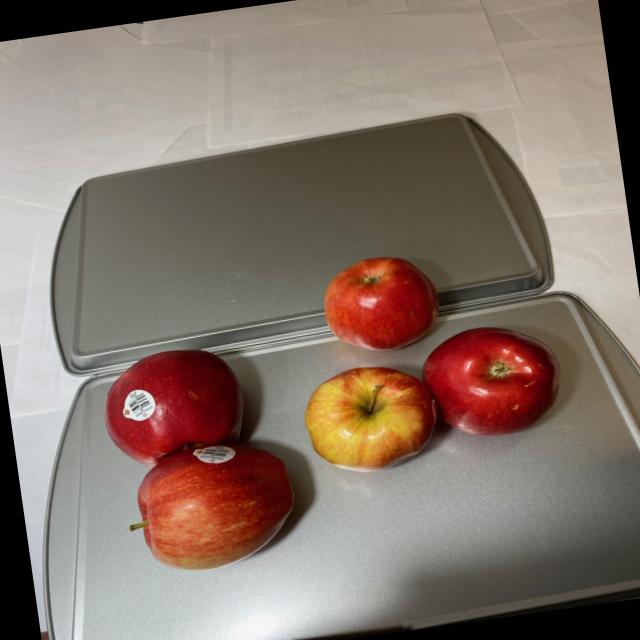apple: (283, 232, 577, 482), (93, 334, 308, 585)
